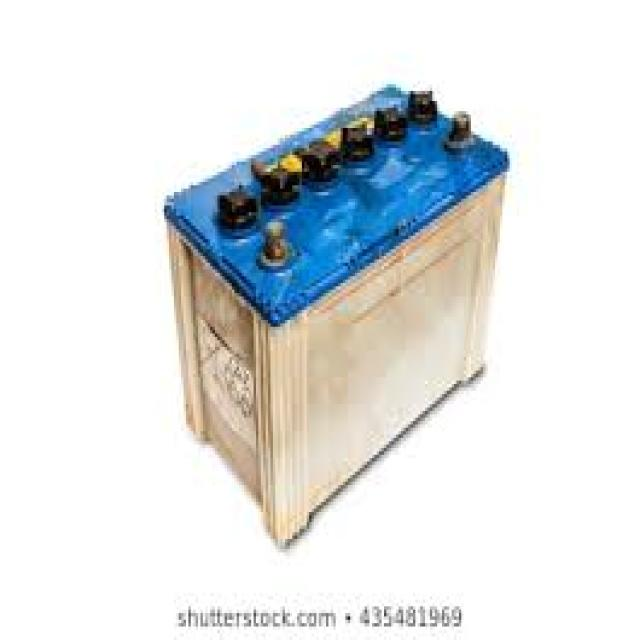battery: (164, 84, 507, 542)
